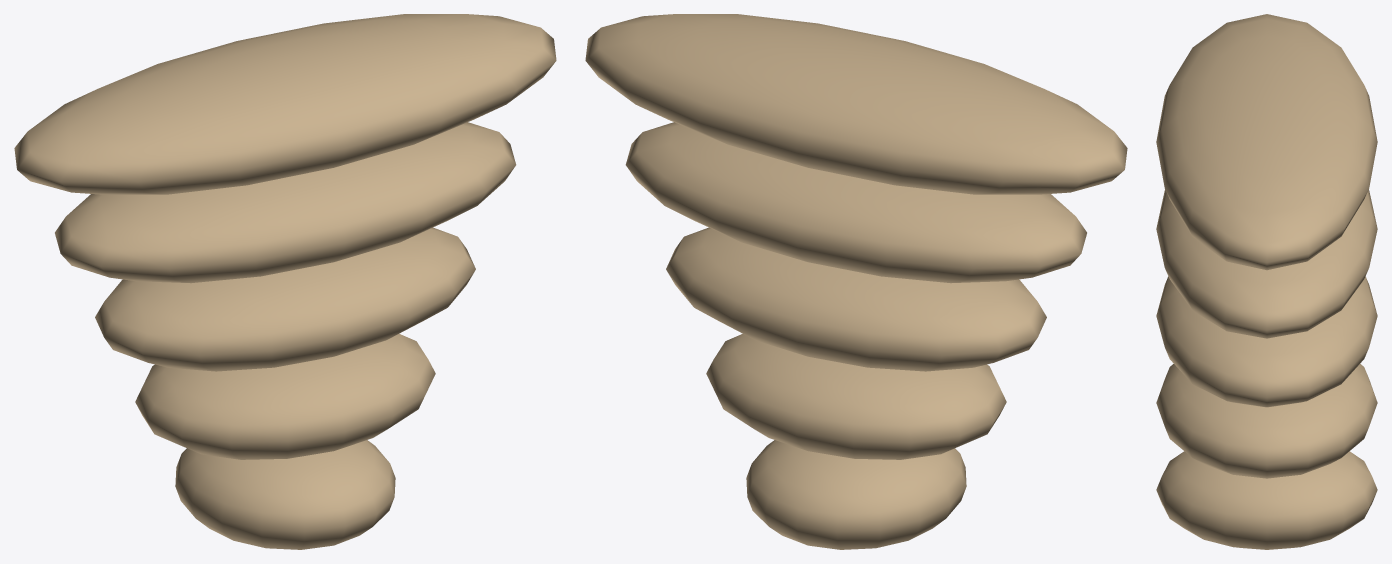
File: sacrum.glb
3 views of the same model, side by side, from view 1: azimuth 30°, elevation 25°; view 2: azimuth 150°, elevation 25°; view 3: azimuth 270°, elevation 25° (orthographic). The views are drawn at different scales.
Parts seen in each view (by area): view 1: sacrum:segment-1, sacrum:segment-2, sacrum:segment-3, sacrum:segment-4, sacrum:segment-5; view 2: sacrum:segment-1, sacrum:segment-2, sacrum:segment-3, sacrum:segment-4, sacrum:segment-5; view 3: sacrum:segment-1, sacrum:segment-2, sacrum:segment-3, sacrum:segment-4, sacrum:segment-5.
Boxes of the visible parts, <box> form: sacrum:segment-1: <box>14,14,556,194</box>; sacrum:segment-2: <box>55,122,516,283</box>; sacrum:segment-3: <box>95,227,475,371</box>; sacrum:segment-4: <box>135,334,435,459</box>; sacrum:segment-5: <box>175,440,395,549</box>; sacrum:segment-1: <box>585,14,1127,194</box>; sacrum:segment-2: <box>625,122,1086,283</box>; sacrum:segment-3: <box>666,227,1046,371</box>; sacrum:segment-4: <box>706,334,1006,459</box>; sacrum:segment-5: <box>746,440,966,549</box>; sacrum:segment-1: <box>1156,14,1377,270</box>; sacrum:segment-2: <box>1156,189,1377,338</box>; sacrum:segment-3: <box>1156,276,1377,407</box>; sacrum:segment-4: <box>1156,364,1377,478</box>; sacrum:segment-5: <box>1156,451,1377,549</box>.
Bounding box in the file's own units: 0.594 × 0.4992 × 0.2304.
